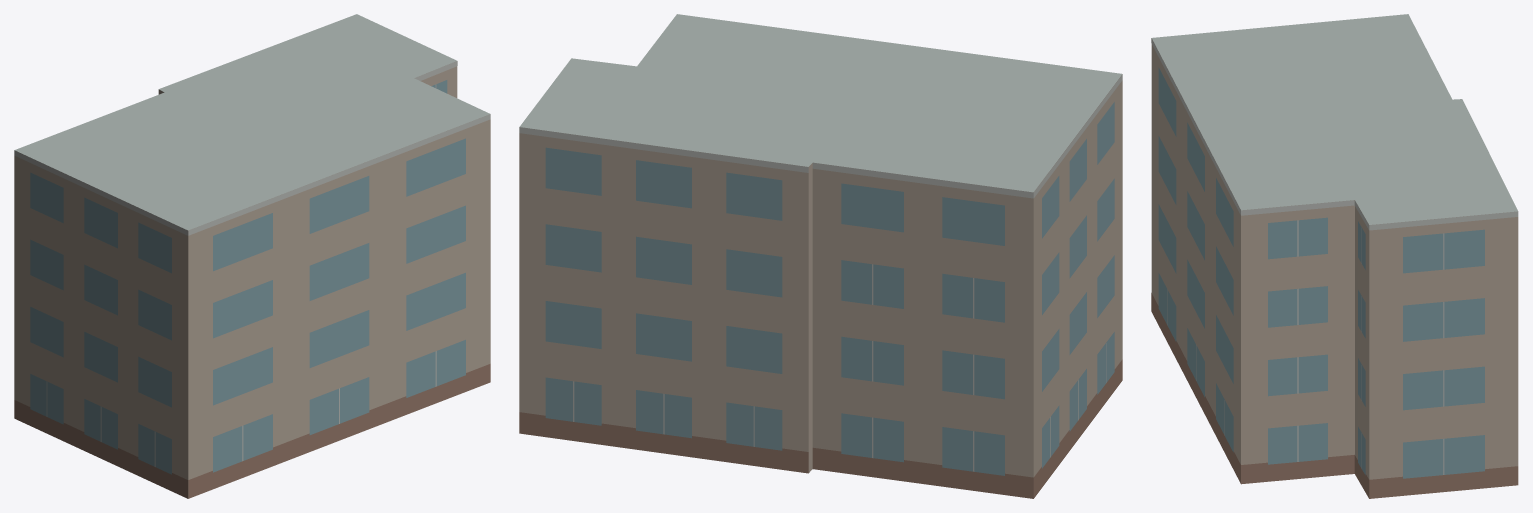
The model's file is survey-upis-32805258.glb.
3 views of the same model, side by side, from view 1: azimuth 30°, elevation 25°; view 2: azimuth 150°, elevation 25°; view 3: azimuth 270°, elevation 25° (orthographic). The views are drawn at different scales.
Parts seen in each view (by area): view 1: survey-upis-32805258.tmp; view 2: survey-upis-32805258.tmp; view 3: survey-upis-32805258.tmp.
Boxes of the visible parts, <box> form: survey-upis-32805258.tmp: <box>14,14,490,498</box>; survey-upis-32805258.tmp: <box>519,14,1122,498</box>; survey-upis-32805258.tmp: <box>1151,14,1518,498</box>.
Bounding box in the file's own units: 20.26 × 12.25 × 14.88.
